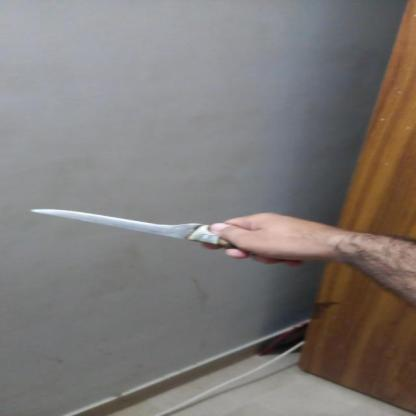Knife: (26, 207, 303, 269)
